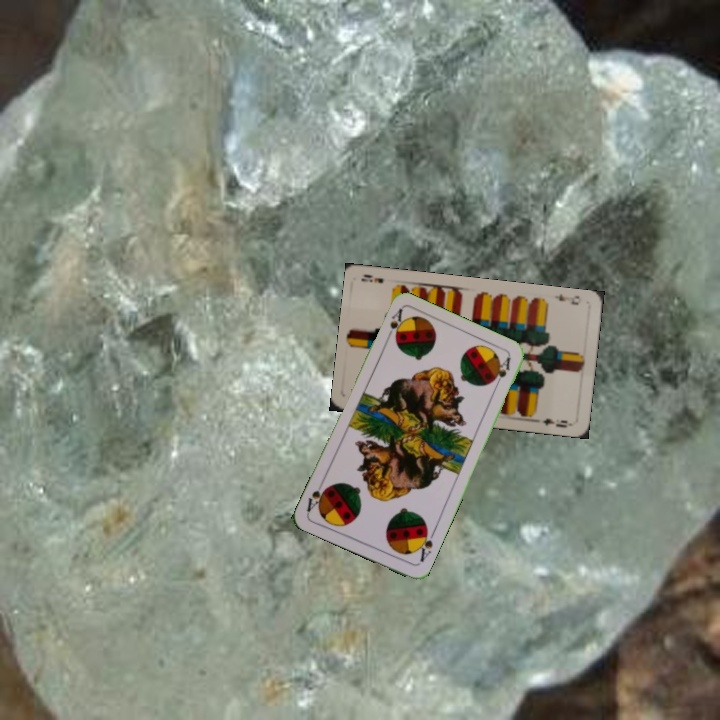E9: (550, 290, 582, 307)
SA: (412, 524, 437, 565), (382, 305, 406, 344)
